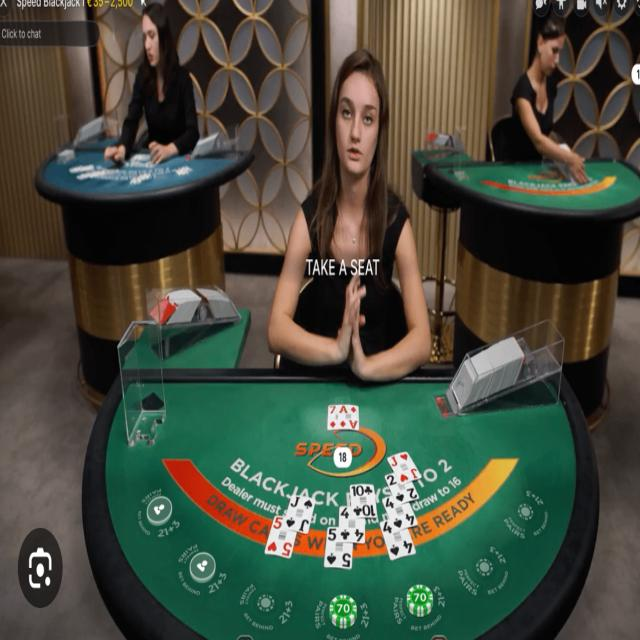Card-10: (350, 484, 377, 519)
Card-2: (384, 472, 419, 506)
Card-4: (379, 520, 416, 561), (381, 496, 418, 535), (339, 505, 365, 543)
Card-5: (265, 514, 296, 560), (324, 527, 353, 568)
Card-7: (328, 404, 339, 431)
Card-A: (339, 405, 359, 432)
Card-J: (282, 494, 315, 535), (387, 450, 422, 485)
